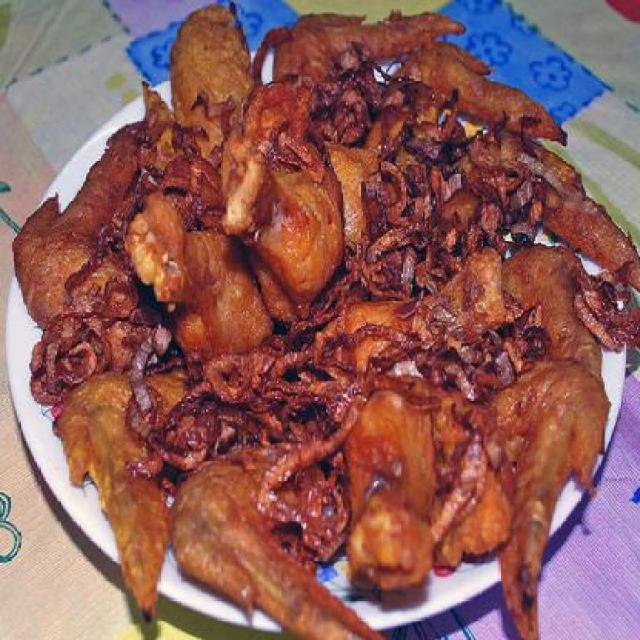Deep fried chicken wing: (34, 43, 616, 602)
